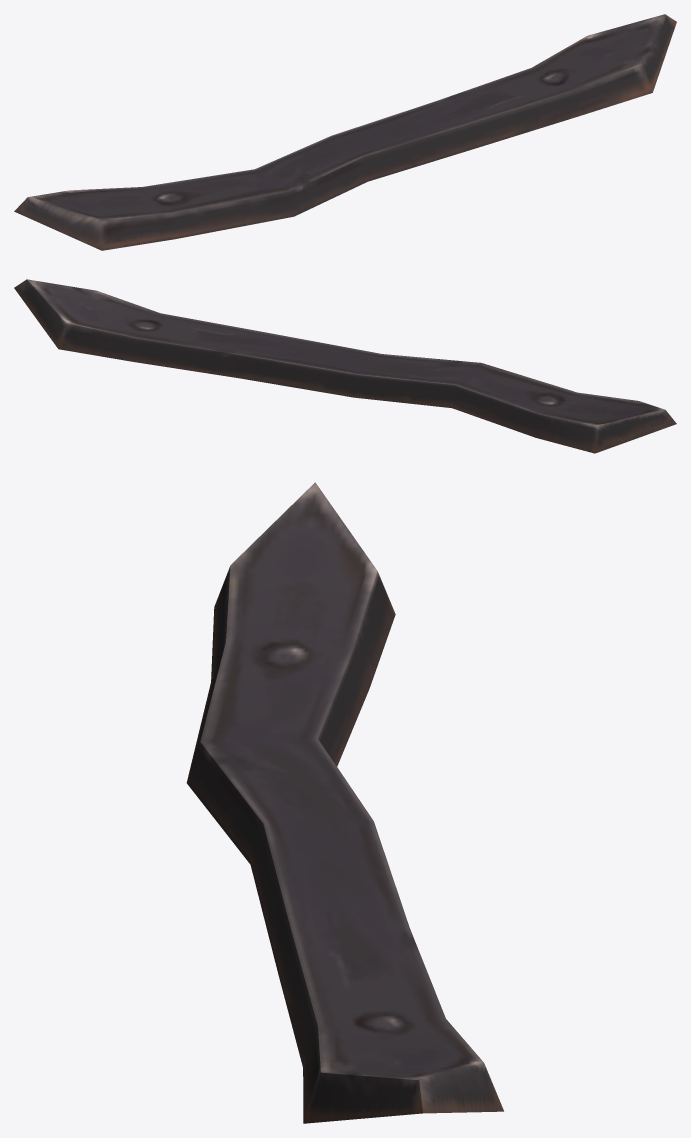
Rendered from cs_yanjiangchengbao_tieqiao_002.FBX.
The picture shows the model from 3 angles, top to bottom: view 1: azimuth 30°, elevation 25°; view 2: azimuth 150°, elevation 25°; view 3: azimuth 270°, elevation 25°; orthographic projection. The views are drawn at different scales.
Visible parts, largest first — view 1: cs_yanjiangchengbao_tieqiao_002; view 2: cs_yanjiangchengbao_tieqiao_002; view 3: cs_yanjiangchengbao_tieqiao_002.
Boxes of the visible parts, <box> form: cs_yanjiangchengbao_tieqiao_002: <box>14,14,676,250</box>; cs_yanjiangchengbao_tieqiao_002: <box>14,279,676,453</box>; cs_yanjiangchengbao_tieqiao_002: <box>186,482,503,1123</box>.
Size of the model in its own units: 103 by 22.33 by 7.2.
